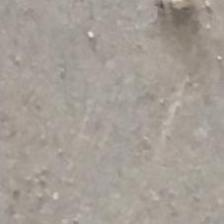Non_Crack: (15, 5, 220, 224)
